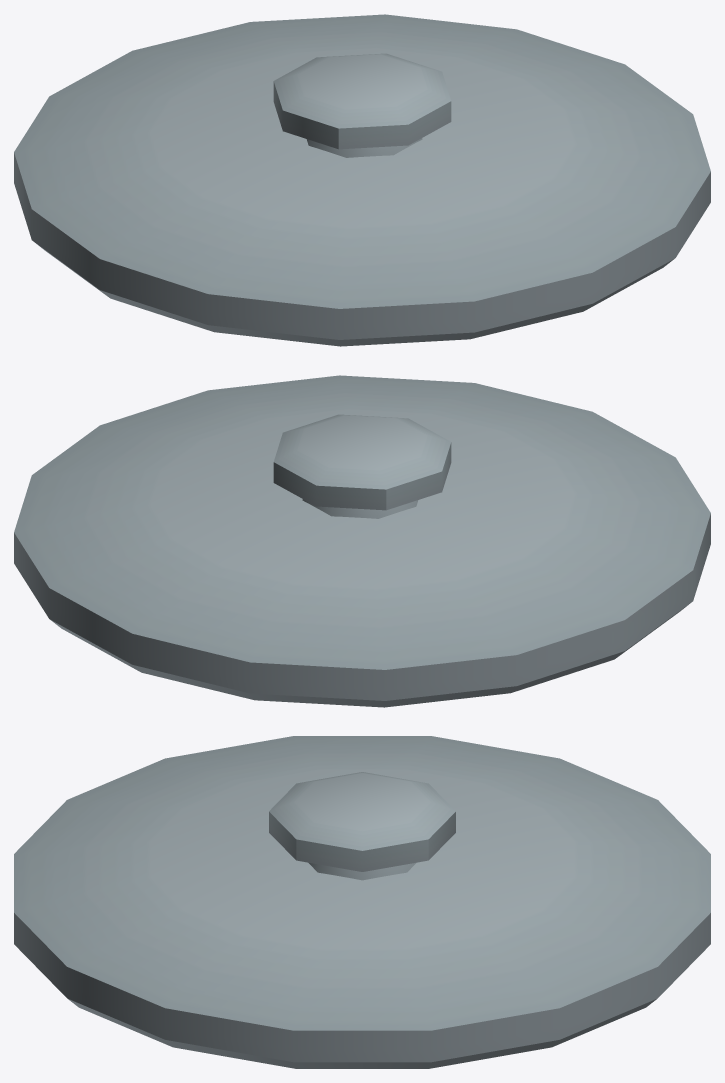
The model's file is lid-a.glb.
3 views of the same model, one above another, from view 1: azimuth 30°, elevation 25°; view 2: azimuth 150°, elevation 25°; view 3: azimuth 270°, elevation 25° (orthographic).
Visible parts, largest first — view 1: lid_A; view 2: lid_A; view 3: lid_A.
Boxes of the visible parts, x1=… form: lid_A: x1=14, y1=14, x2=710, y2=346; lid_A: x1=14, y1=375, x2=710, y2=707; lid_A: x1=14, y1=736, x2=710, y2=1068.
Size of the model in its own units: 1 by 0.2003 by 1.
Materials: 1 (1 with a texture image).
